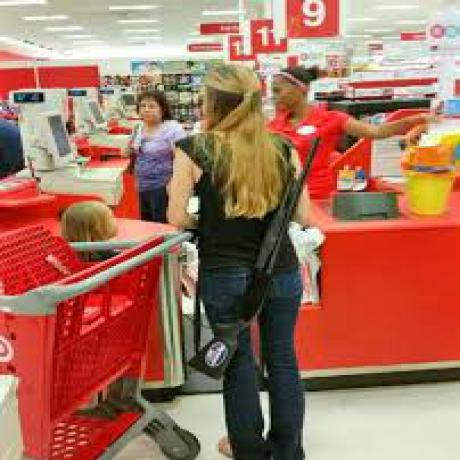Guns: (189, 128, 325, 388)
